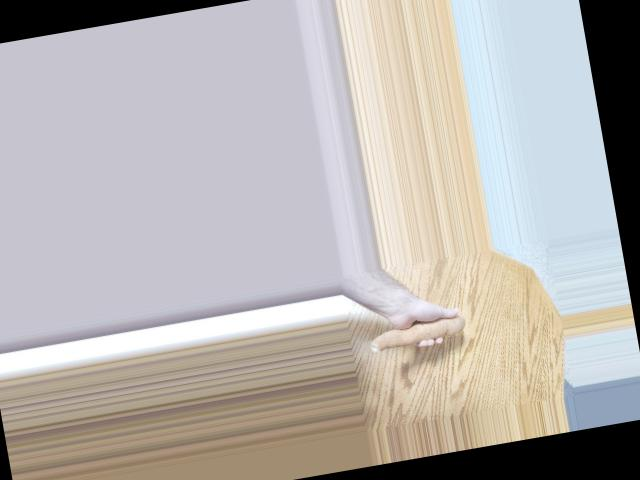sweet_potato: (365, 307, 463, 352)
